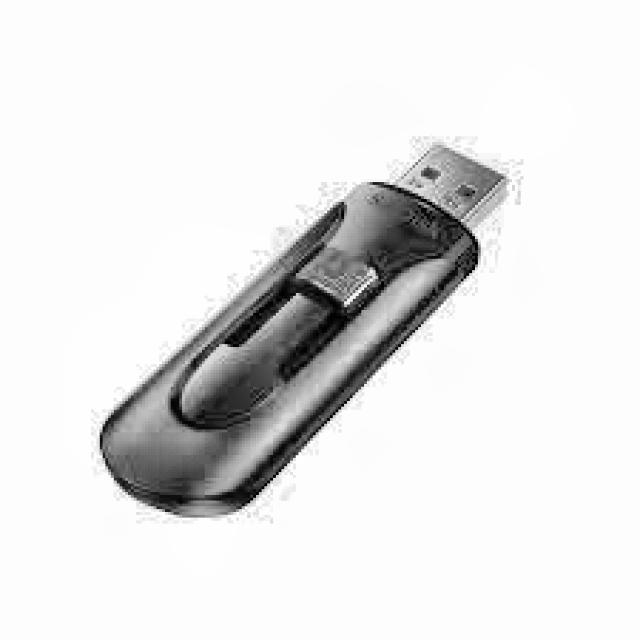Mug: (38, 54, 566, 595)
